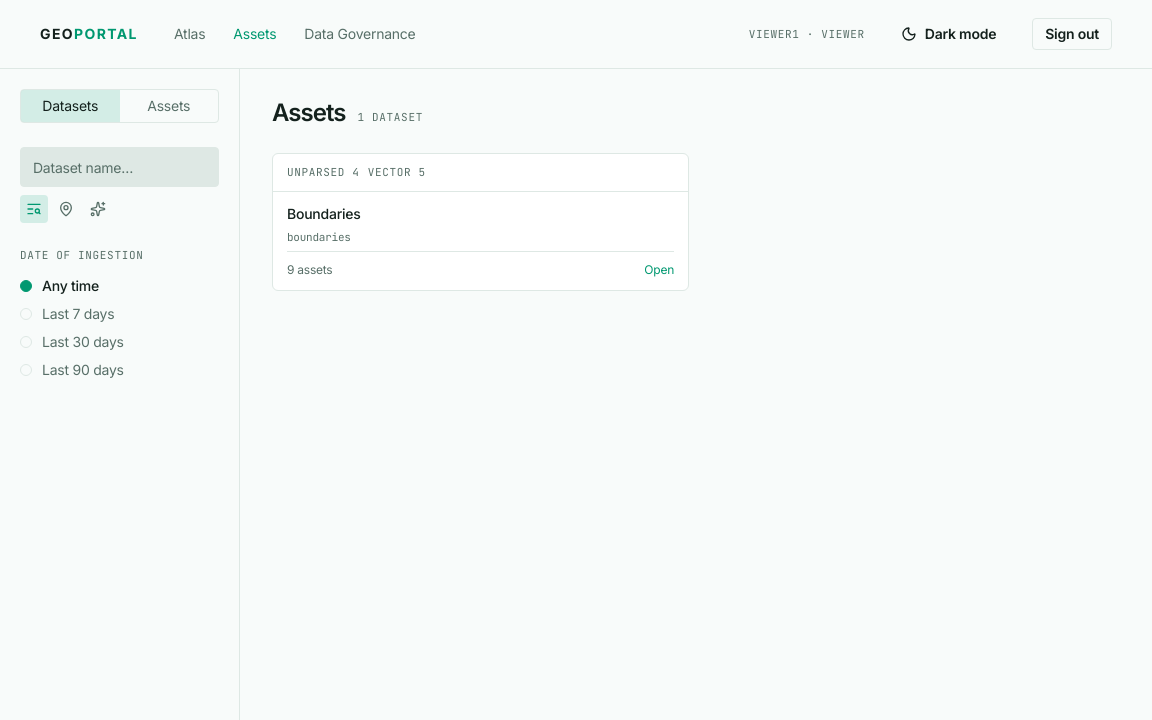
Test: shows one page at a time and steps between them
Click the radio button labelled "Assets".
click(169, 106)  # box [120,90,218,122]
(page scrolled)
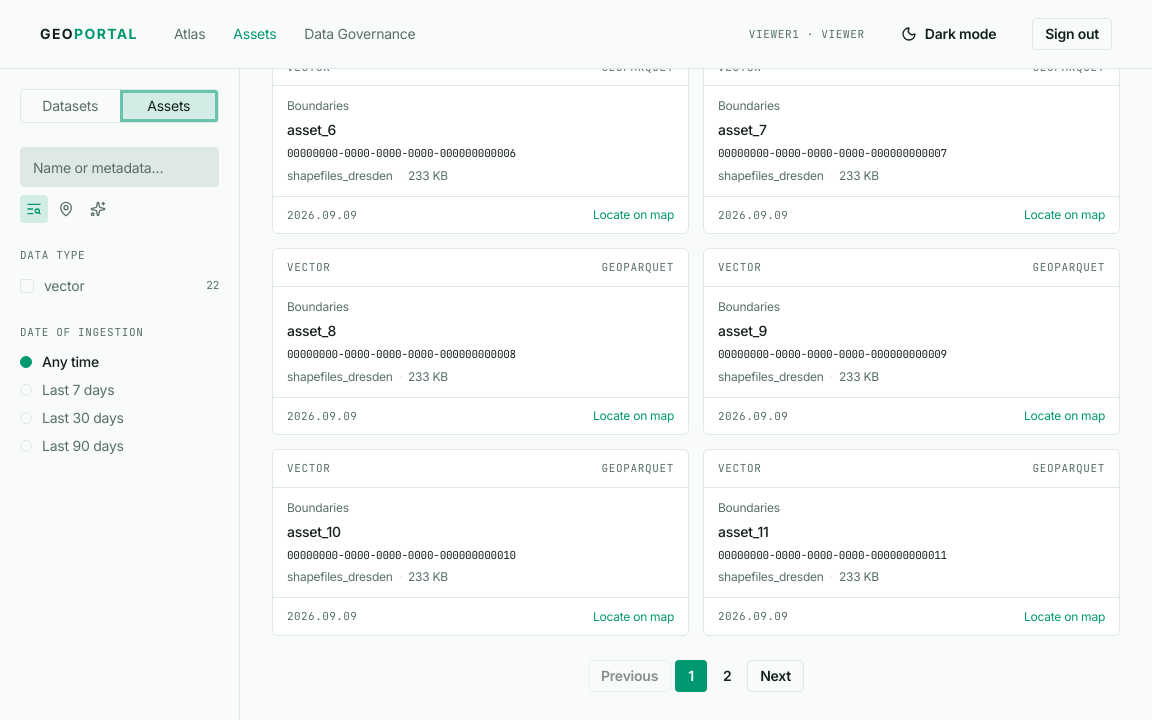
Click the button named "Page 2".
click(727, 676)  # box [711,660,743,692]
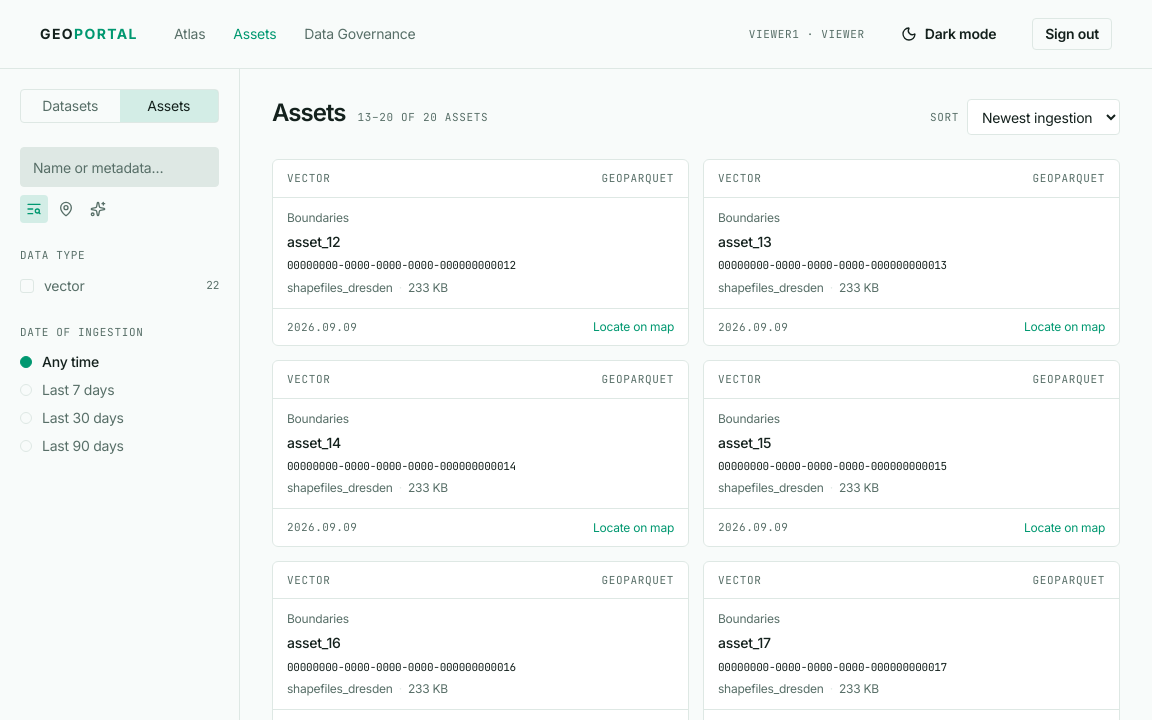
Expected: the text "asset_12" is shown, [287,233,340,250]
Expected: the text "13–20 of 20 assets" is shown, [358,109,488,126]
